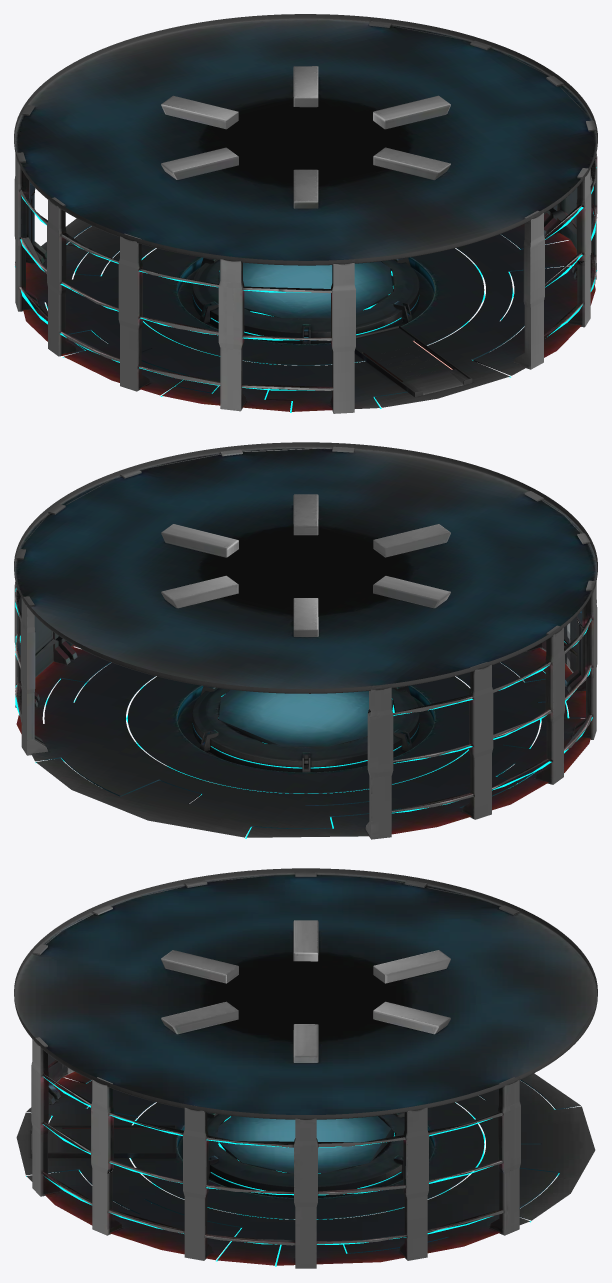
The model's file is platform.glb.
The picture shows the model from 3 angles, top to bottom: view 1: azimuth 30°, elevation 25°; view 2: azimuth 150°, elevation 25°; view 3: azimuth 270°, elevation 25°; orthographic projection.
Parts seen in each view (by area): view 1: Black_Ground, Black_Wall, Black_LightUpper, 3_Wall_Hori_1, Emissive_Cyan; view 2: Black_Ground, Black_Wall, Black_LightUpper, 3_Wall_Hori_1, Emissive_Cyan; view 3: Black_Ground, Black_Wall, Black_LightUpper, 3_Wall_Hori_1.
Part boxes in pixels (box(x1,y1,x2,y2)): Black_Ground: box(14, 14, 597, 411); Black_Wall: box(14, 21, 597, 413); Black_LightUpper: box(161, 66, 450, 208); 3_Wall_Hori_1: box(15, 167, 597, 390); Emissive_Cyan: box(45, 244, 520, 412); Black_Ground: box(14, 442, 597, 837); Black_Wall: box(14, 446, 597, 839); Black_LightUpper: box(161, 494, 450, 636); 3_Wall_Hori_1: box(15, 588, 592, 813); Emissive_Cyan: box(35, 671, 568, 838); Black_Ground: box(14, 868, 597, 1265); Black_Wall: box(31, 872, 520, 1268); Black_LightUpper: box(161, 920, 450, 1062); 3_Wall_Hori_1: box(43, 1076, 492, 1244).
Size of the model in its own units: 39.76 by 12.37 by 39.74.
6 materials, 4 textured.
